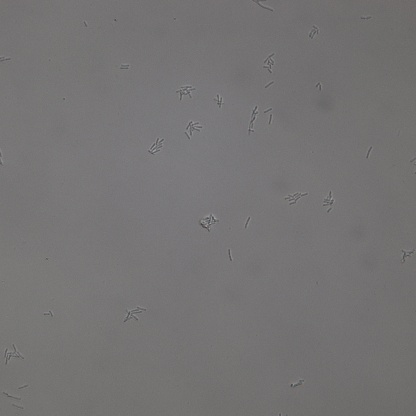R(colony): (3, 345, 25, 365), (285, 190, 309, 206), (198, 214, 218, 232), (185, 120, 203, 139), (175, 85, 196, 100), (247, 106, 258, 134), (125, 306, 146, 320), (263, 52, 277, 73), (148, 138, 165, 155), (400, 247, 416, 265), (322, 191, 335, 212), (308, 25, 319, 38), (290, 379, 305, 388), (214, 95, 224, 107), (43, 310, 54, 317), (314, 82, 322, 91)
